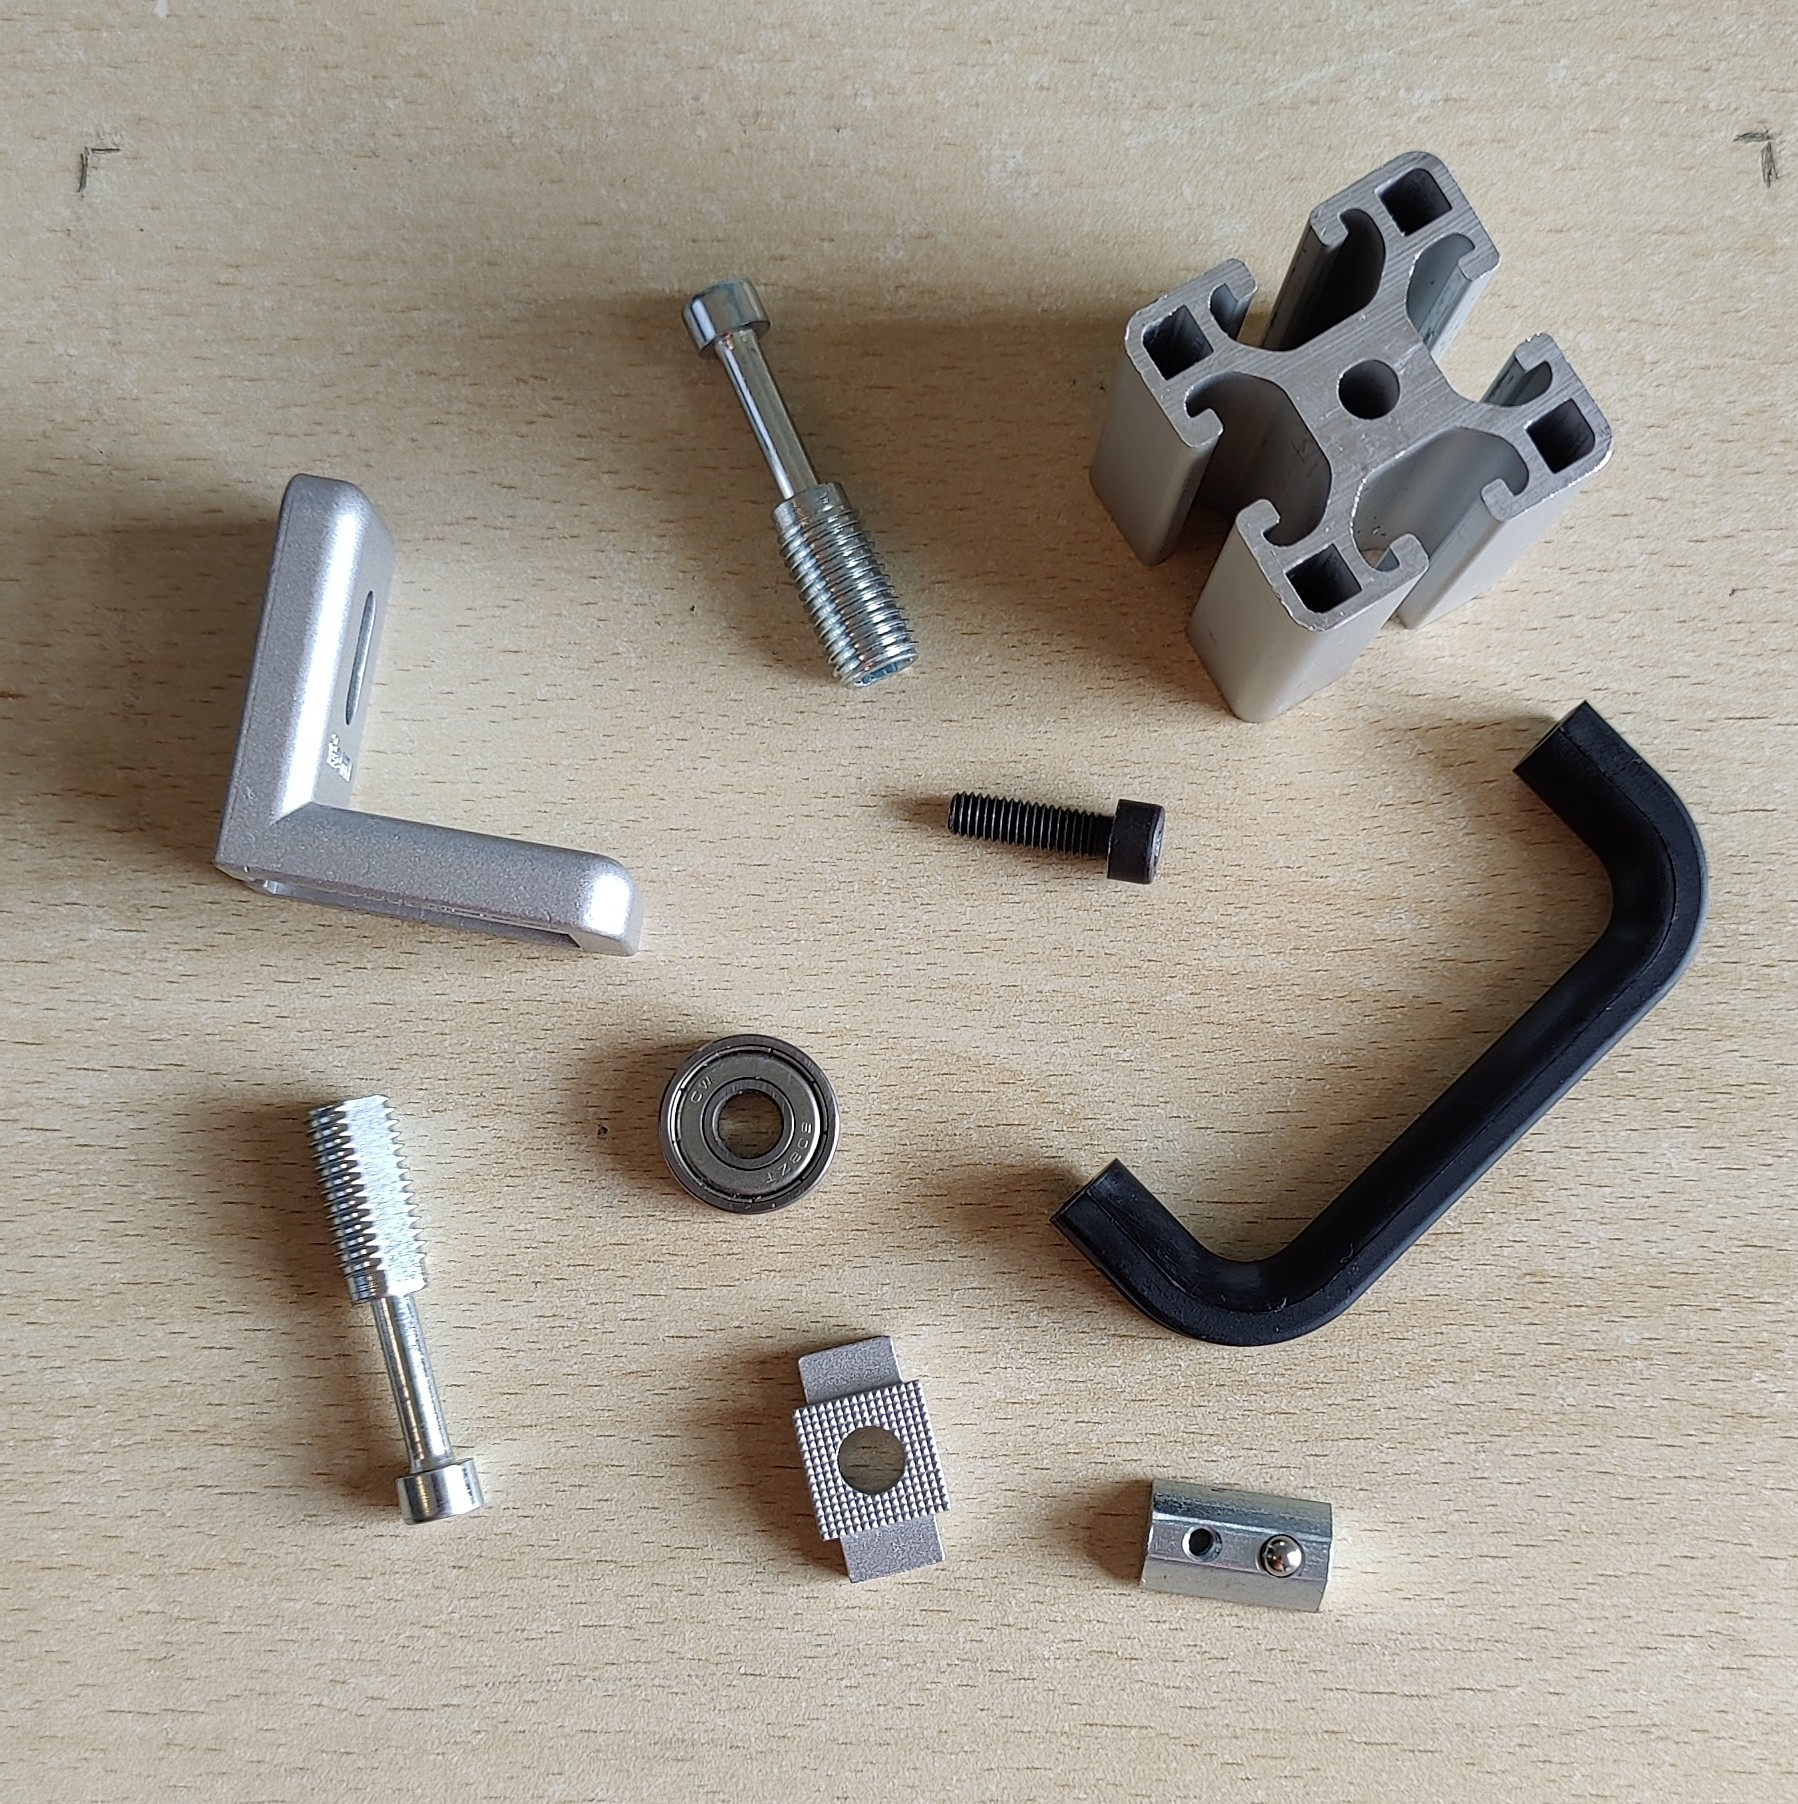Aluminium Extension: (1085, 146, 1619, 726)
Ball Bearing: (655, 1034, 843, 1216)
Multiwinkel: (211, 467, 650, 960)
Pull Handle: (1046, 693, 1714, 1351)
Shoulder Socket Head Cap Screw: (682, 273, 925, 693), (300, 1090, 491, 1531)
Socket Head Cap Screw: (943, 787, 1169, 886)
T Nut Square: (790, 1333, 952, 1587)
T Spring Nut: (1130, 1473, 1335, 1615)
